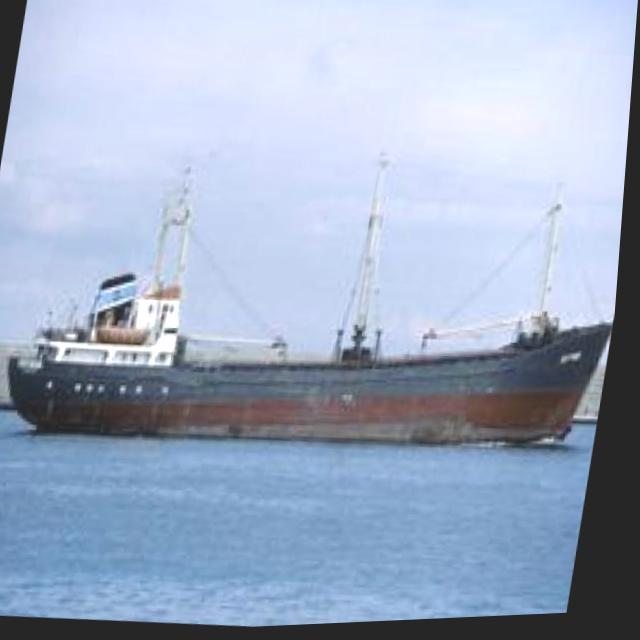ship2: (11, 158, 618, 455)
